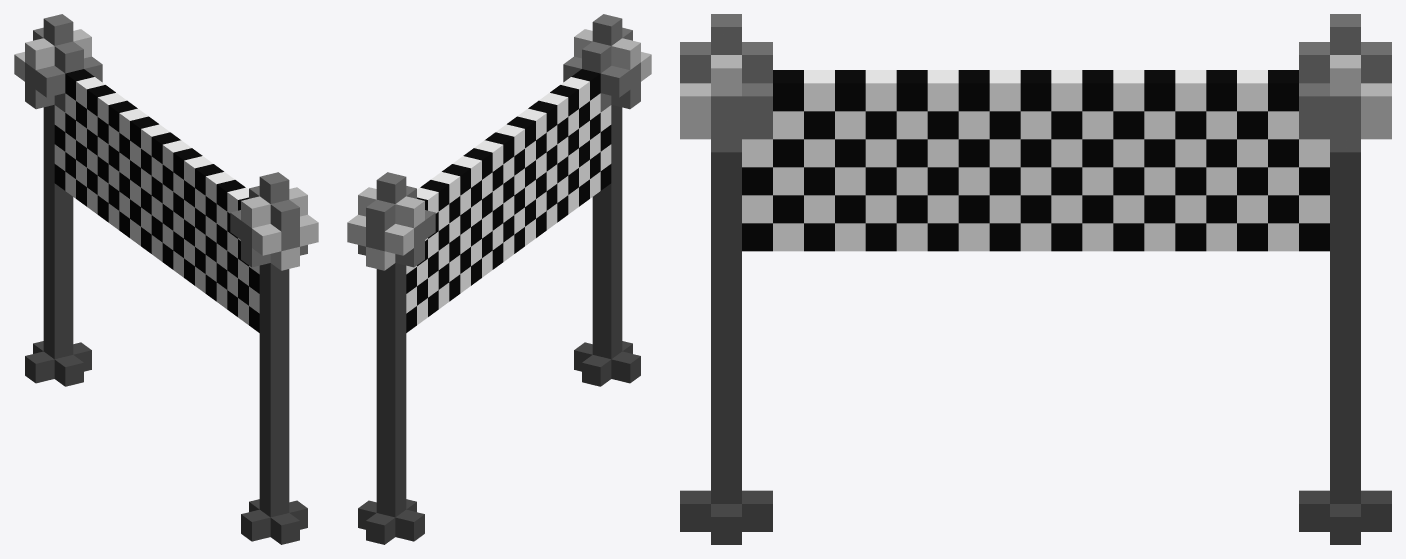
File: Flag.obj
3 renders of one model, left to right at view 1: azimuth 30°, elevation 25°; view 2: azimuth 150°, elevation 25°; view 3: azimuth 270°, elevation 25°, orthographic. The views are drawn at different scales.
Bounding box in the file's own units: 0.3 × 1.8 × 2.3.
Materials: 1 (1 with a texture image).
